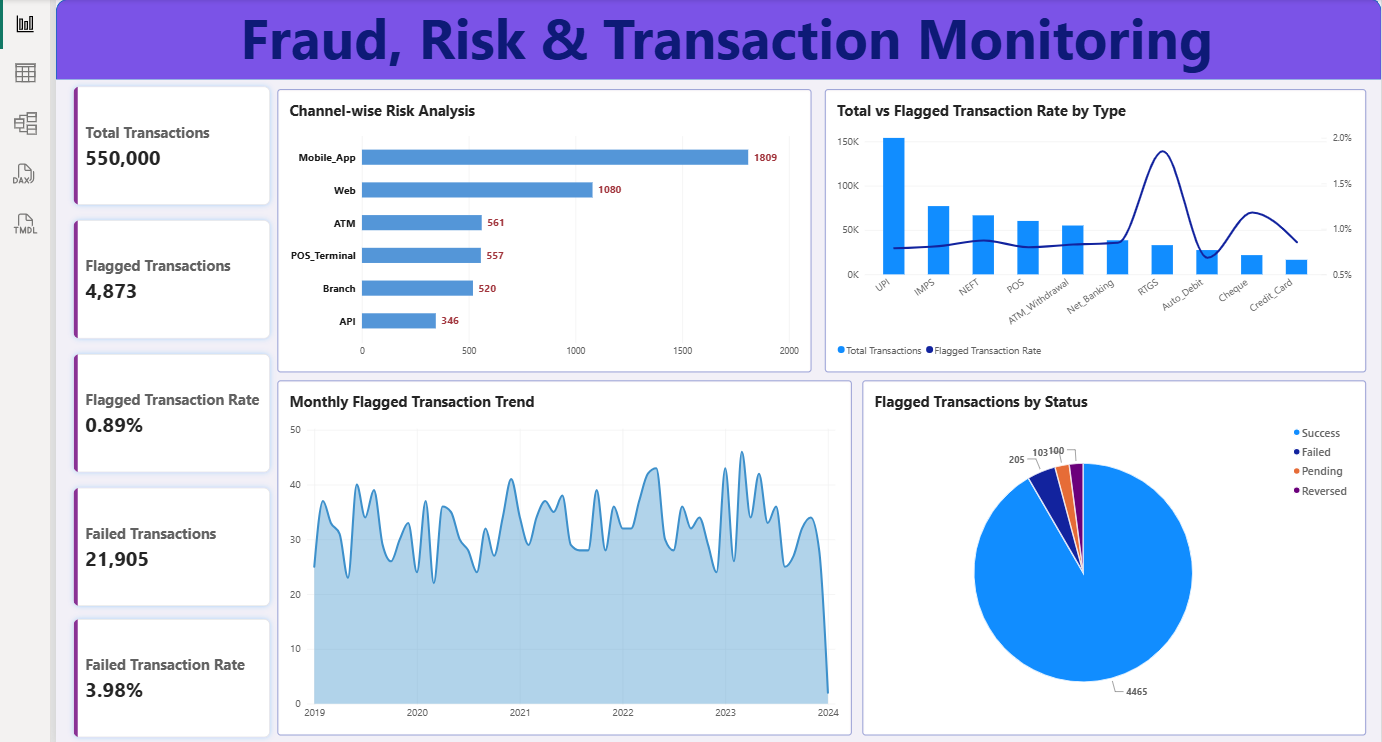

This screenshot's page, from the dashboard's own definition file:
{"tool":"powerbi","page":{"name":"Page 2","canvas":[1920,1080],"ordinal":1},"visuals":[{"type":"shape","box":[0,0,1920.4,116.7],"z":0},{"type":"textbox","box":[32.8,0,1832.8,116.7],"z":1000},{"type":"cardVisual","fields":{"Data":["Indian Banking Transactions.Total Transactions"]},"box":[14.6,116.7,306.4,193.3],"z":2000},{"type":"cardVisual","fields":{"Data":["Indian Banking Transactions.Flagged Transactions"]},"box":[14.6,310,306.4,193.3],"z":3000},{"type":"cardVisual","fields":{"Data":["Indian Banking Transactions.Flagged Transaction Rate"]},"box":[14.6,503.3,306.4,193.3],"z":4000},{"type":"cardVisual","fields":{"Data":["Indian Banking Transactions.Failed Transactions"]},"box":[14.6,696.7,306.4,193.3],"z":5000},{"type":"cardVisual","fields":{"Data":["Indian Banking Transactions.Failed Transaction Rate"]},"box":[14.6,886.3,306.4,193.3],"z":6000},{"type":"clusteredBarChart","title":"Channel-wise Risk Analysis","fields":{"Category":["Indian Banking Transactions.channel"],"Y":["Indian Banking Transactions.Flagged Transactions"]},"box":[321,129.5,773.3,410.3],"z":7000},{"type":"stackedAreaChart","title":"Monthly Flagged Transaction Trend","fields":{"Category":["Indian Banking Transactions.transaction_date.Variation.Date Hierarchy.Year","Indian Banking Transactions.transaction_date.Variation.Date Hierarchy.Month"],"Y":["Indian Banking Transactions.Flagged Transactions"]},"box":[321,552.6,831.6,514.3],"z":8000},{"type":"lineClusteredColumnComboChart","title":"Total vs Flagged Transaction Rate by Type","fields":{"Category":["Indian Banking Transactions.transaction_type"],"Y":["Indian Banking Transactions.Total Transactions"],"Y2":["Indian Banking Transactions.Flagged Transaction Rate"]},"box":[1112.5,129.5,784.2,410.3],"z":9000},{"type":"pieChart","title":"Flagged Transactions by Status","fields":{"Category":["Indian Banking Transactions.transaction_status"],"Y":["Indian Banking Transactions.Flagged Transactions"]},"box":[1167.2,552.6,729.5,514.3],"z":10000}]}

Visuals, with their boxes on the page's 1920x1080 design canvas (x1, y1, x2, y2). These are canvas units, not pixel positions in the 1382x742 screenshot, which may show the page scaled, cropped or inside an application window:
shape: 0 0 1920 117
textbox: 33 0 1866 117
cardVisual - Indian Banking Transactions.Total Transactions: 15 117 321 310
cardVisual - Indian Banking Transactions.Flagged Transactions: 15 310 321 503
cardVisual - Indian Banking Transactions.Flagged Transaction Rate: 15 503 321 697
cardVisual - Indian Banking Transactions.Failed Transactions: 15 697 321 890
cardVisual - Indian Banking Transactions.Failed Transaction Rate: 15 886 321 1080
"Channel-wise Risk Analysis" clusteredBarChart: 321 130 1094 540
"Monthly Flagged Transaction Trend" stackedAreaChart: 321 553 1153 1067
"Total vs Flagged Transaction Rate by Type" lineClusteredColumnComboChart: 1112 130 1897 540
"Flagged Transactions by Status" pieChart: 1167 553 1897 1067
